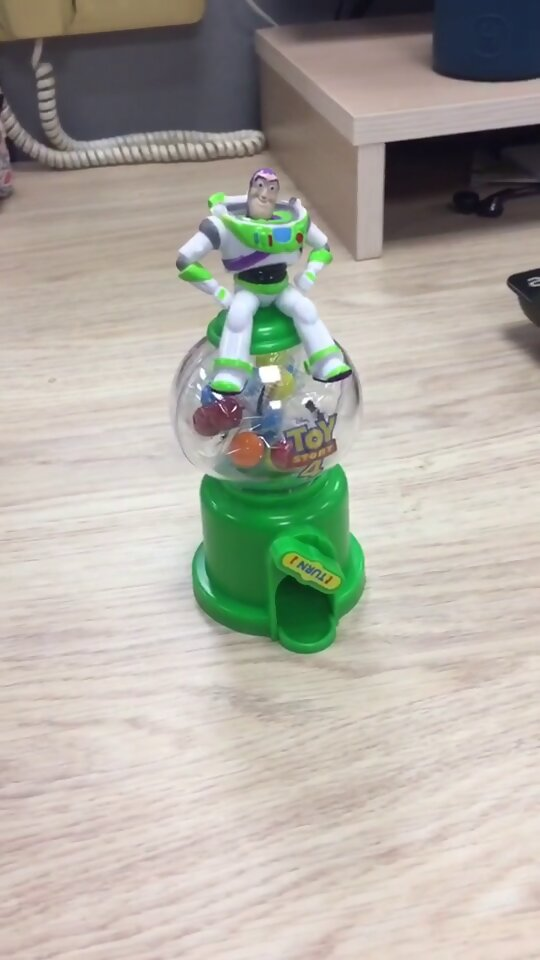buzz: (164, 161, 374, 659)
